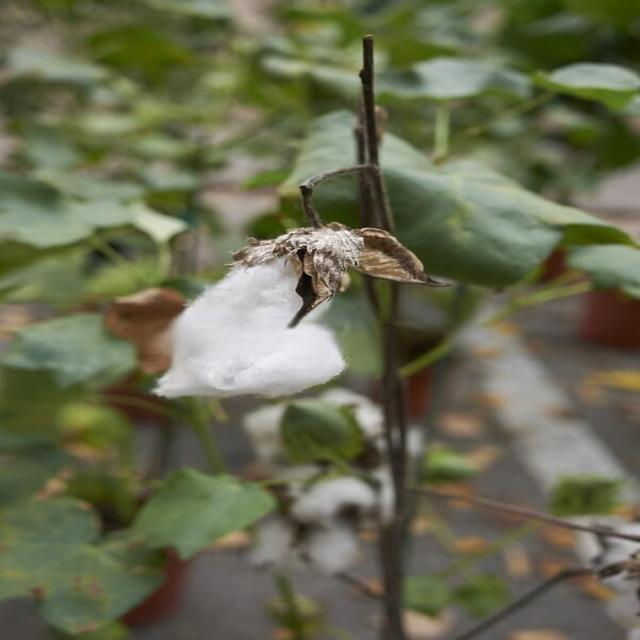Leaf: (141, 209, 449, 419)
